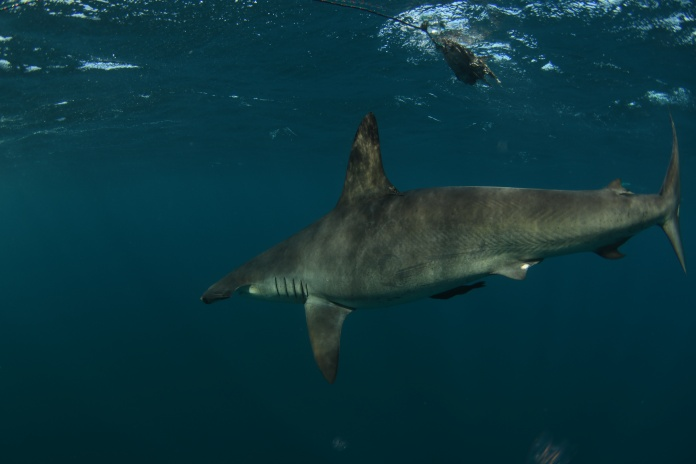Hammer: (125, 84, 696, 401)
